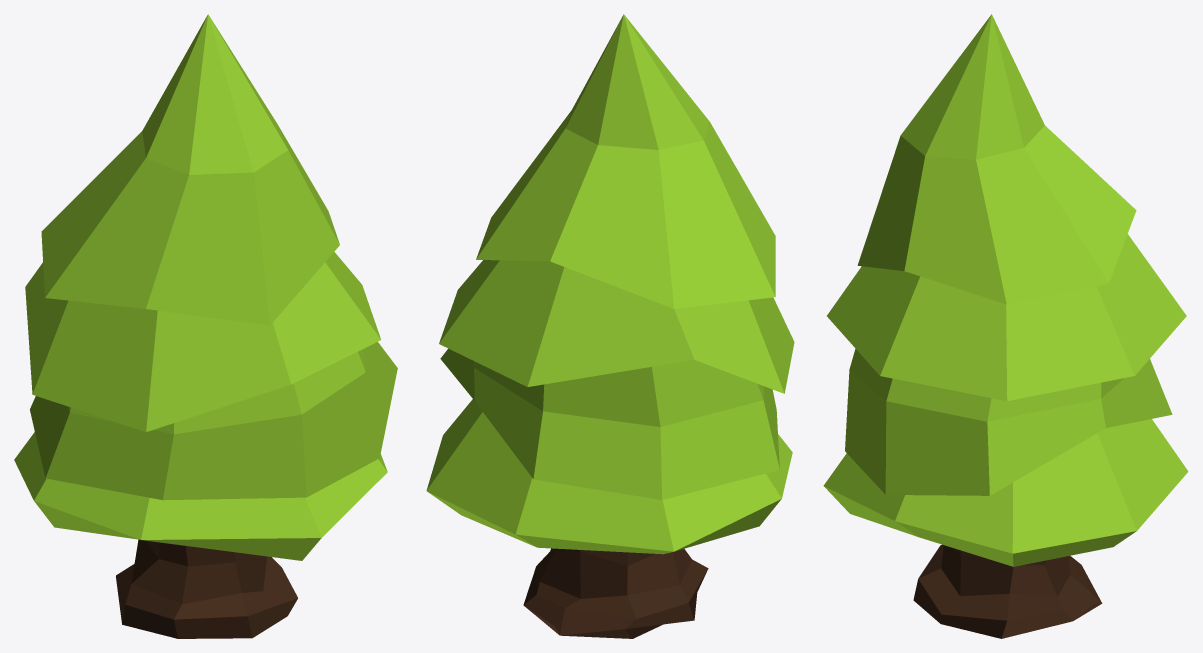
The model's file is tree_v.glb.
3 renders of one model, left to right at view 1: azimuth 30°, elevation 25°; view 2: azimuth 150°, elevation 25°; view 3: azimuth 270°, elevation 25°, orthographic. The views are drawn at different scales.
Parts seen in each view (by area): view 1: Circle.004; view 2: Circle.004; view 3: Circle.004.
Boxes of the visible parts, x1=… form: Circle.004: x1=14, y1=14, x2=397, y2=638; Circle.004: x1=426, y1=14, x2=794, y2=638; Circle.004: x1=823, y1=14, x2=1188, y2=638.
Size of the model in its own units: 2.34 by 3.75 by 2.1.
